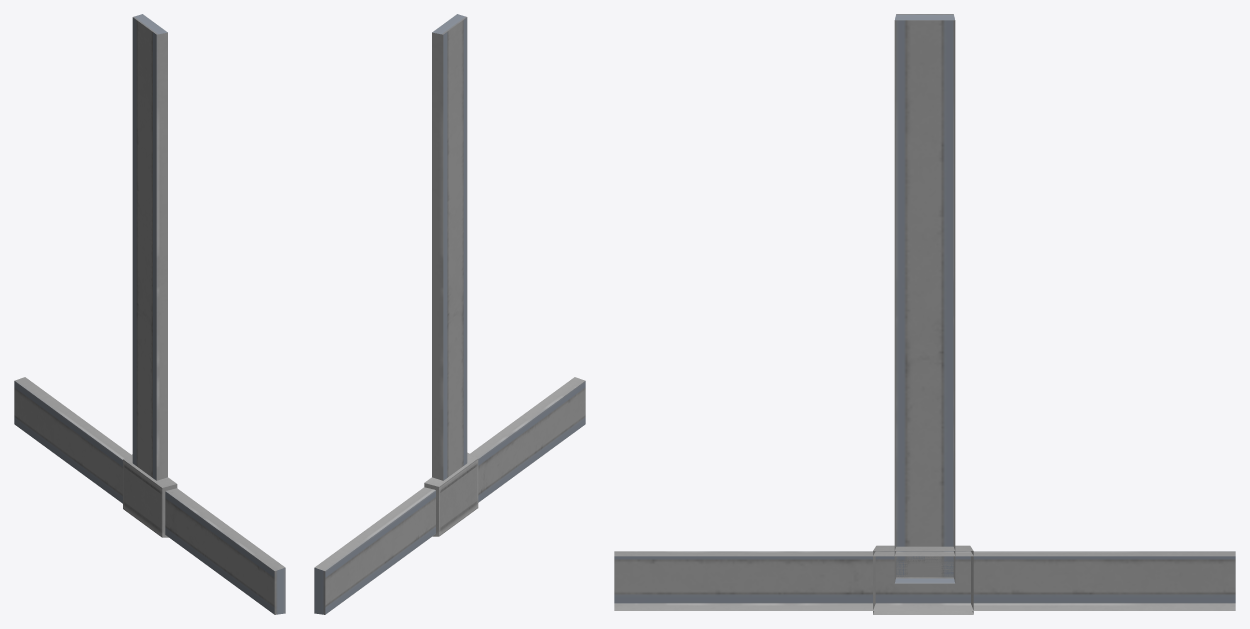
File: HH_CableDuct_Angle_01.fbx
3 views of the same model, side by side, from view 1: azimuth 30°, elevation 25°; view 2: azimuth 150°, elevation 25°; view 3: azimuth 270°, elevation 25° (orthographic). The views are drawn at different scales.
Parts seen in each view (by area): view 1: HH_CableDuct_Angle_01; view 2: HH_CableDuct_Angle_01; view 3: HH_CableDuct_Angle_01.
Part boxes in pixels (bbox=[...]): HH_CableDuct_Angle_01: bbox=[14, 14, 285, 614]; HH_CableDuct_Angle_01: bbox=[314, 14, 585, 614]; HH_CableDuct_Angle_01: bbox=[614, 14, 1235, 614].
Size of the model in its own units: 2.98 by 106 by 100.
